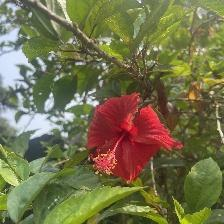hibiscus: (83, 92, 187, 188)
